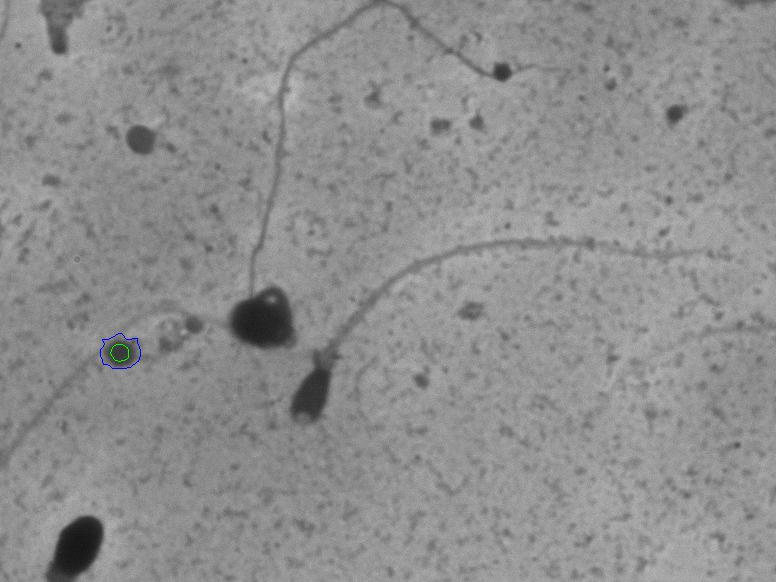Abnormal: (278, 233, 753, 438), (193, 272, 306, 370)
